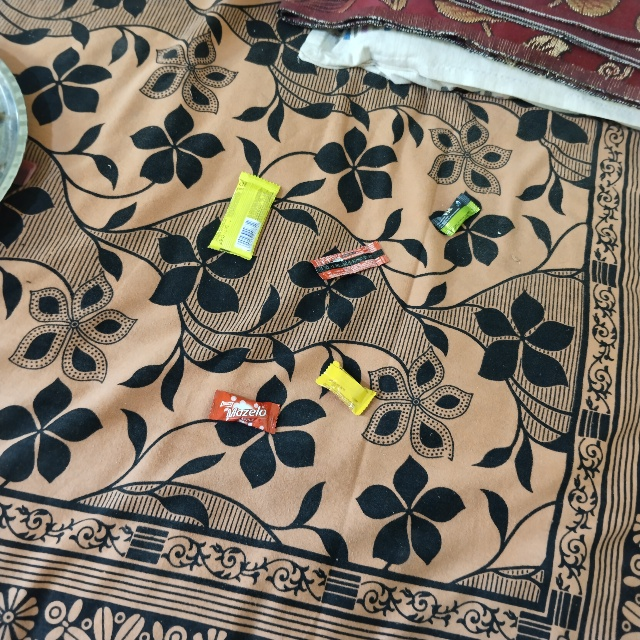Alpenlibe Creamfills: (330, 354, 392, 388)
Mazelo: (216, 388, 284, 420)
Nescafe Coffee: (308, 261, 388, 288)
Orbit: (241, 164, 287, 255)
Pulse: (425, 221, 479, 257)
